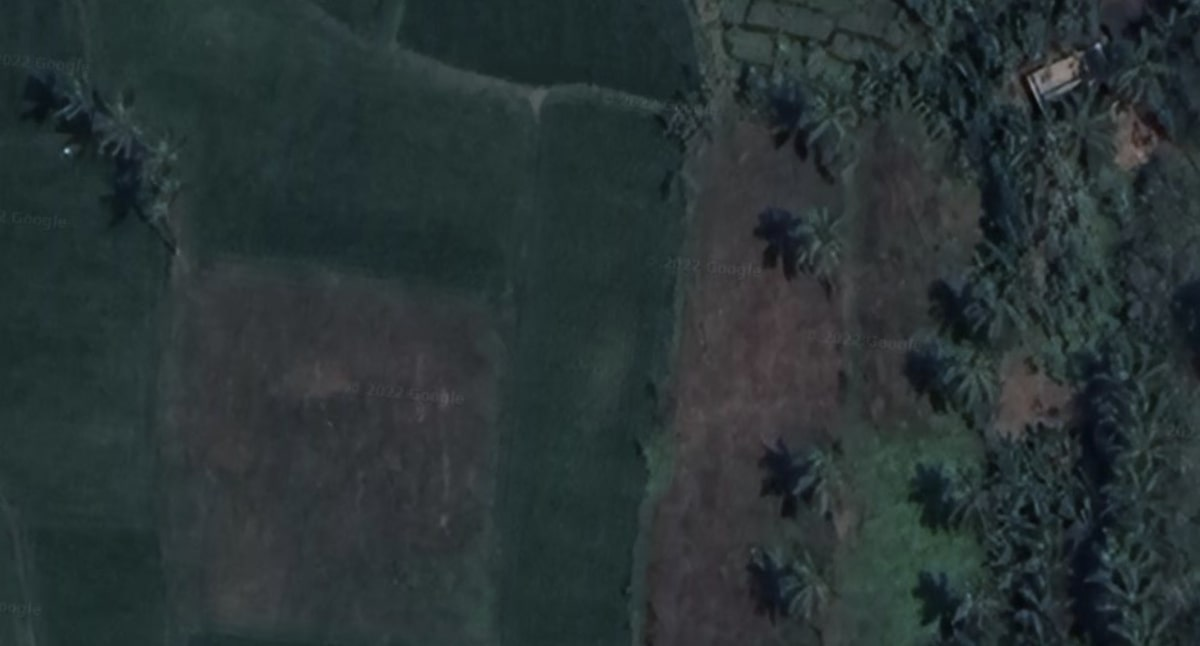coconut: (754, 543, 859, 634), (774, 202, 866, 293), (948, 262, 1021, 350), (65, 94, 157, 162), (933, 350, 1002, 431), (28, 58, 95, 131), (793, 443, 856, 519), (1005, 574, 1071, 646), (790, 87, 856, 156), (1056, 89, 1121, 158), (1099, 342, 1168, 406), (1111, 416, 1175, 481), (936, 573, 995, 642), (936, 455, 992, 521)
